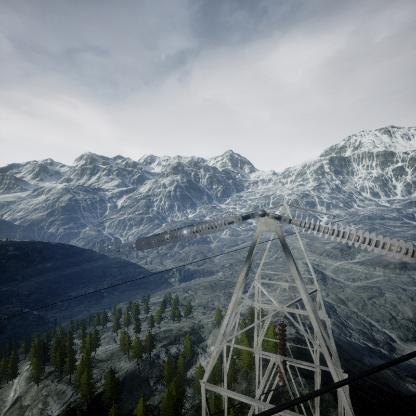insulator: (277, 205, 416, 265), (118, 208, 256, 254)
